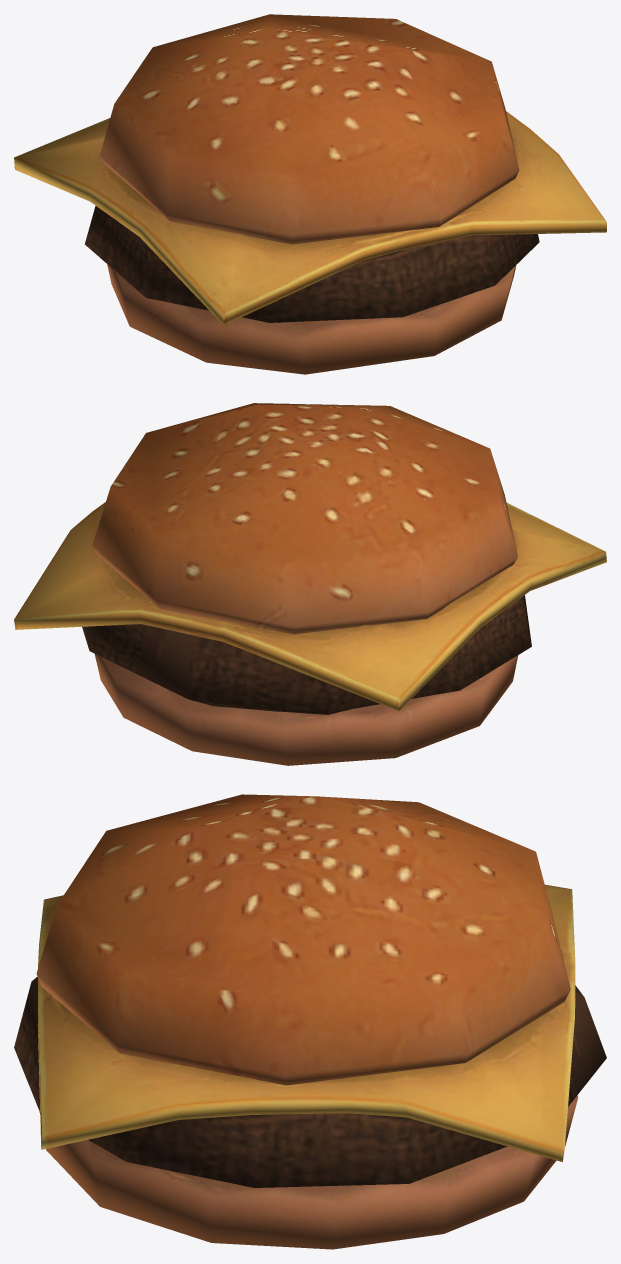
Rendered from burger.glb.
3 renders of one model, top to bottom at view 1: azimuth 30°, elevation 25°; view 2: azimuth 150°, elevation 25°; view 3: azimuth 270°, elevation 25°, orthographic. The views are drawn at different scales.
Visible parts, largest first — view 1: mesh; view 2: mesh; view 3: mesh.
Part boxes in pixels (box(x1,y1,x2,y2)): mesh: box(14, 14, 606, 374); mesh: box(14, 403, 606, 765); mesh: box(14, 794, 606, 1249).
Bounding box in the file's own units: 6.49 × 4.24 × 6.64.
1 material, 1 textured.
